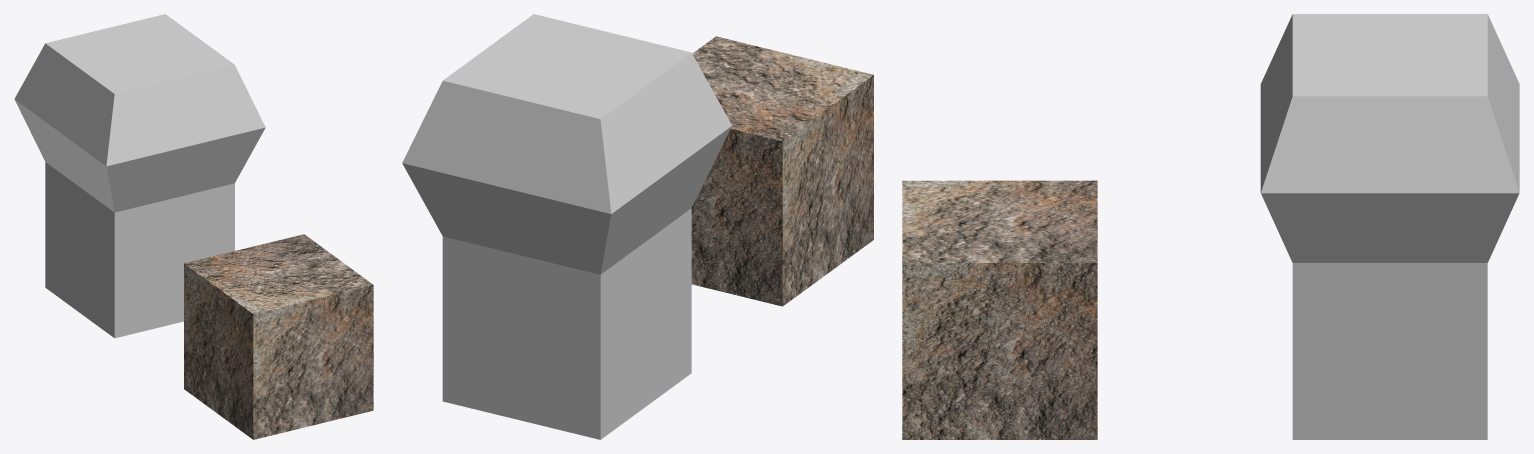
File: blocks.dae
The picture shows the model from 3 angles, left to right: view 1: azimuth 30°, elevation 25°; view 2: azimuth 150°, elevation 25°; view 3: azimuth 270°, elevation 25°; orthographic projection. The views are drawn at different scales.
Parts seen in each view (by area): view 1: BigBox-col, Box-col; view 2: BigBox-col, Box-col; view 3: BigBox-col, Box-col.
Part boxes in pixels (bbox=[...]): BigBox-col: bbox=[14, 14, 265, 338]; Box-col: bbox=[184, 234, 373, 439]; BigBox-col: bbox=[402, 14, 731, 439]; Box-col: bbox=[691, 36, 873, 306]; BigBox-col: bbox=[1260, 14, 1519, 439]; Box-col: bbox=[902, 180, 1097, 439].
Size of the model in its own units: 1.33 by 3.16 by 1.94.
Materials: 1 (1 with a texture image).
